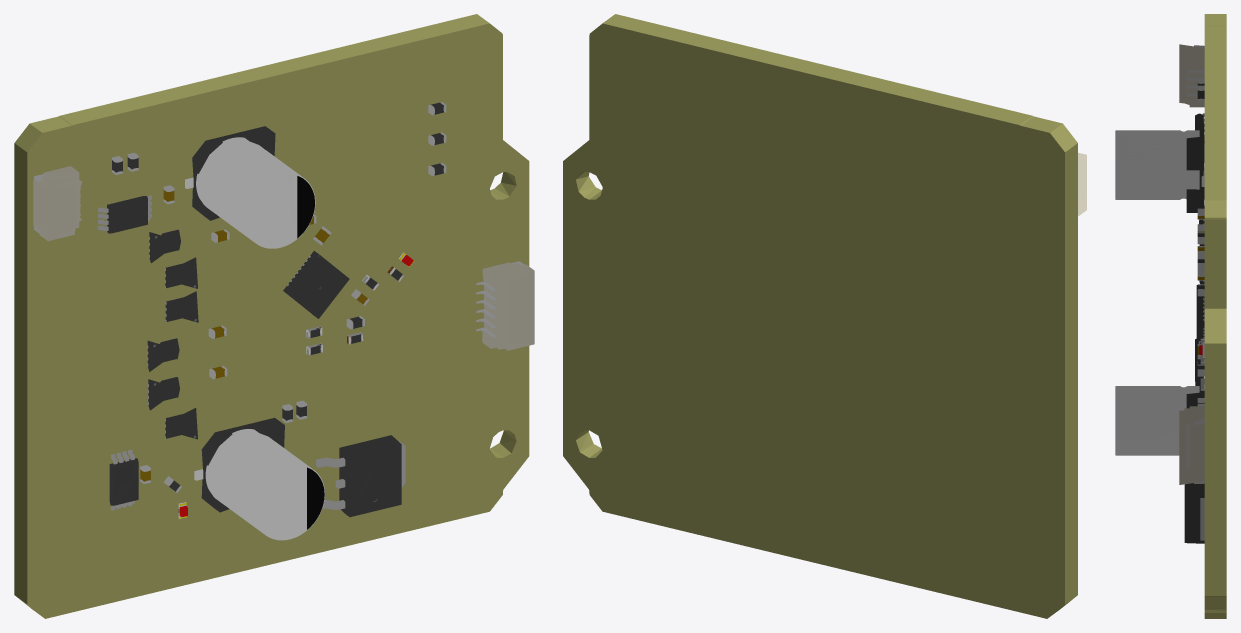
File: OBJ_pcb_drive.obj
The picture shows the model from 3 angles, left to right: view 1: azimuth 30°, elevation 25°; view 2: azimuth 150°, elevation 25°; view 3: azimuth 270°, elevation 25°; orthographic projection. The views are drawn at different scales.
Size of the model in its own units: 224 by 208 by 50.35.
